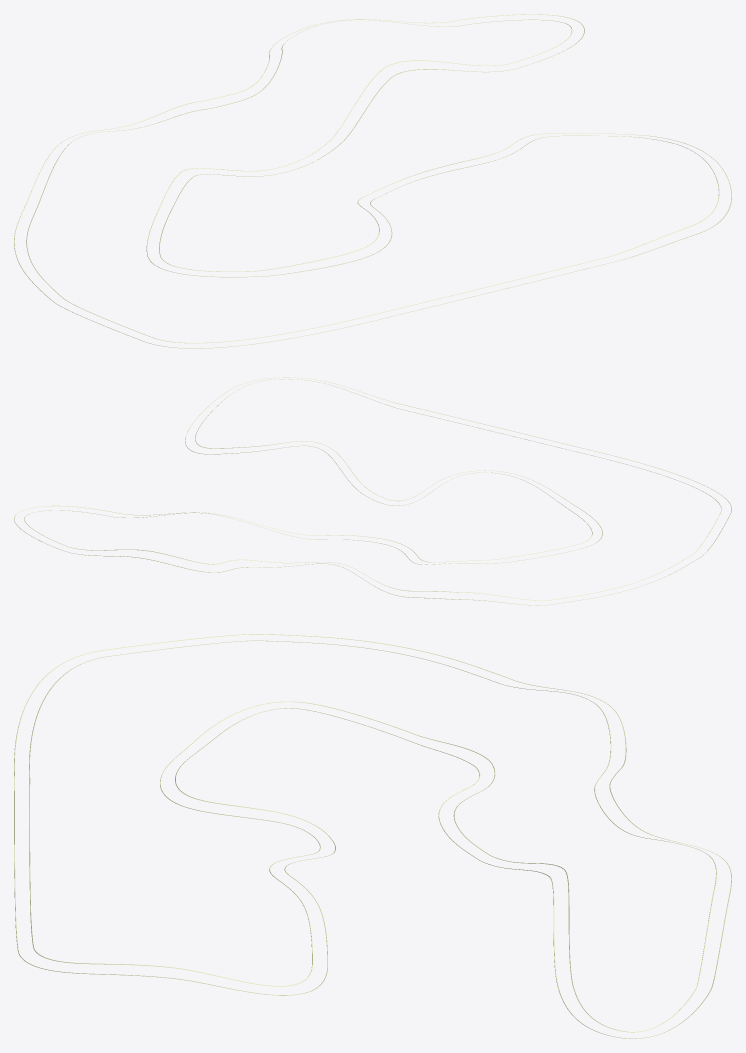
File: OpenRoadConcreteBarrier.fbx
The picture shows the model from 3 angles, top to bottom: view 1: azimuth 30°, elevation 25°; view 2: azimuth 150°, elevation 25°; view 3: azimuth 270°, elevation 25°; orthographic projection. The views are drawn at different scales.
Parts seen in each view (by area): view 1: ConcreteBarrier; view 2: ConcreteBarrier; view 3: ConcreteBarrier.
Part boxes in pixels (box(x1,y1,x2,y2)): ConcreteBarrier: box(14, 14, 731, 348); ConcreteBarrier: box(14, 377, 731, 605); ConcreteBarrier: box(14, 634, 731, 1038).
Bounding box in the file's own units: 158142 × 6954 × 118572.
